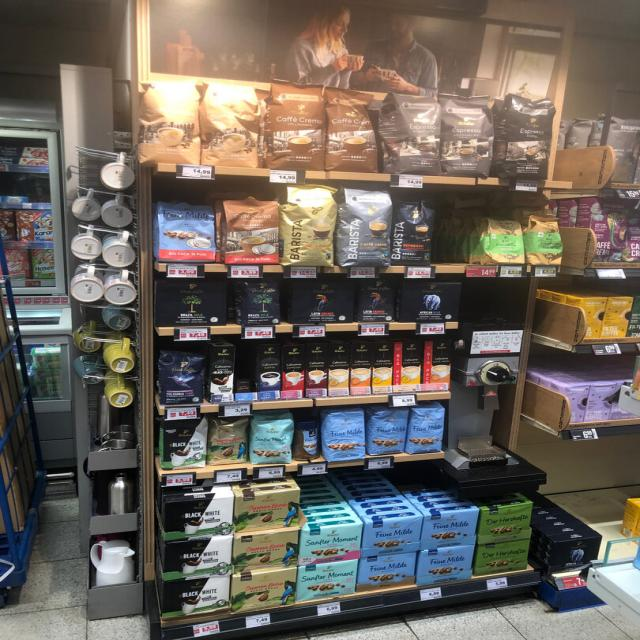AB Gemahlen: (397, 282, 463, 322)
Athiopien Bohne: (526, 216, 566, 265)
Athiopien Gemahlen: (480, 214, 525, 264)
BM Bohne: (238, 279, 283, 326)
BM Gemahlen: (153, 282, 229, 327)
BW Bohne: (157, 417, 209, 472)
BW Gemahlen: (160, 494, 235, 542), (161, 536, 234, 583), (161, 576, 232, 618)
Barista CB: (281, 184, 343, 269)
Barista CC: (337, 186, 397, 268)
Barista Espresso: (389, 195, 444, 265)
C Fino Bohne: (157, 349, 208, 407)
CC Mild: (130, 77, 205, 165), (200, 76, 268, 169)
CC Vollmundig: (219, 197, 281, 266)
CC Vollmundig 36 Pads: (259, 79, 331, 170), (325, 85, 381, 174)
Colombia BB Bohne: (206, 416, 251, 466)
Colombia BB Gemahlen: (233, 489, 302, 534), (232, 529, 299, 575), (231, 568, 298, 614)
Empty Shelf: (435, 197, 483, 265), (234, 345, 258, 394)
Espresso Aromatisch: (380, 91, 445, 177), (441, 92, 500, 179)
Espresso Kraftig: (492, 94, 560, 183)
FM 36 Pads: (151, 201, 217, 265)
FM Bohne: (323, 409, 368, 463), (369, 409, 411, 456), (408, 407, 449, 454)
FM Gemahlen: (361, 516, 424, 558), (356, 551, 418, 593), (419, 509, 480, 551), (416, 546, 476, 586)
FM Instant: (292, 417, 322, 461)
Herzhatfe Mundig: (477, 503, 534, 544), (474, 539, 532, 576)
LG Bohne: (356, 278, 399, 323)
LG Gemahlen: (287, 279, 357, 324)
SM Bohne: (250, 417, 295, 466)
SM Gemahlen: (294, 559, 360, 602), (299, 524, 364, 566)
Simo CCMild: (393, 342, 423, 392)
Simo CCMild bigpack: (373, 342, 394, 394)
Simo CCVollmundig: (423, 341, 452, 389)
Simo CCVollmundig bigpack: (350, 342, 374, 395)
Simo Decaff: (328, 343, 350, 396)
Simo Es Brazil: (281, 345, 305, 398)
Simo Es Caramel: (258, 344, 281, 400), (305, 343, 327, 397)
Simo Es Elegant: (209, 345, 236, 403)
